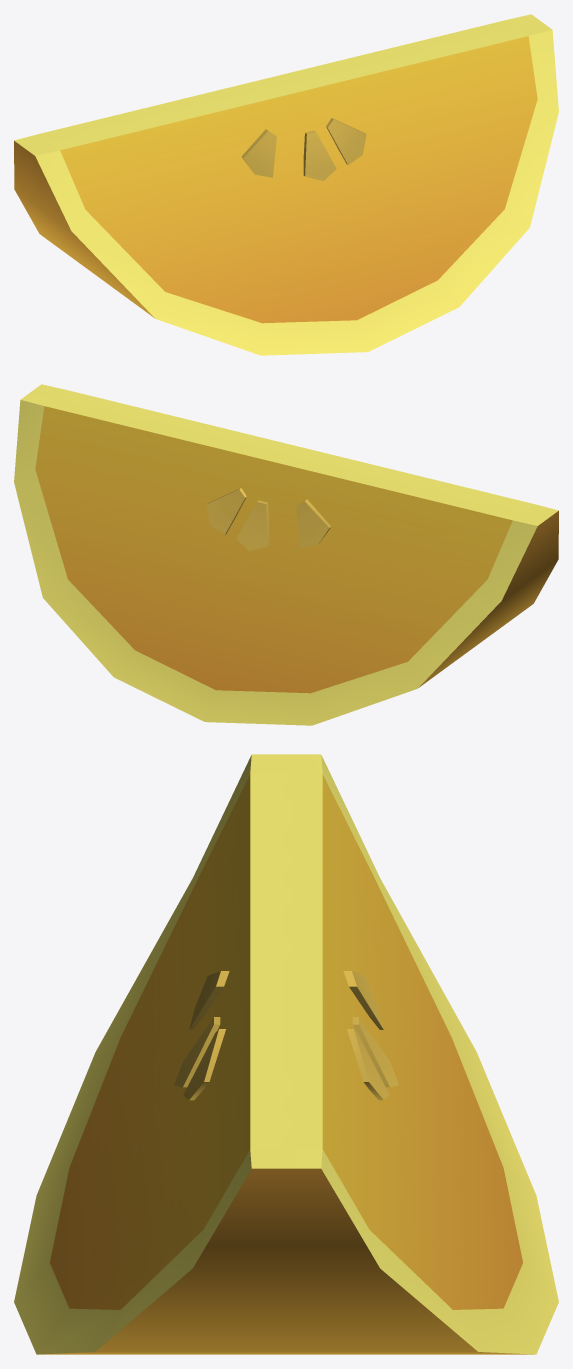
File: orange_slice.fbx
The picture shows the model from 3 angles, top to bottom: view 1: azimuth 30°, elevation 25°; view 2: azimuth 150°, elevation 25°; view 3: azimuth 270°, elevation 25°; orthographic projection. The views are drawn at different scales.
Visible parts, largest first — view 1: orange_slice; view 2: orange_slice; view 3: orange_slice.
Part boxes in pixels (<box>): orange_slice: <box>14,14,558,355</box>; orange_slice: <box>14,384,558,725</box>; orange_slice: <box>14,754,558,1354</box>.
Size of the model in its own units: 17.01 by 6.49 by 9.46.
